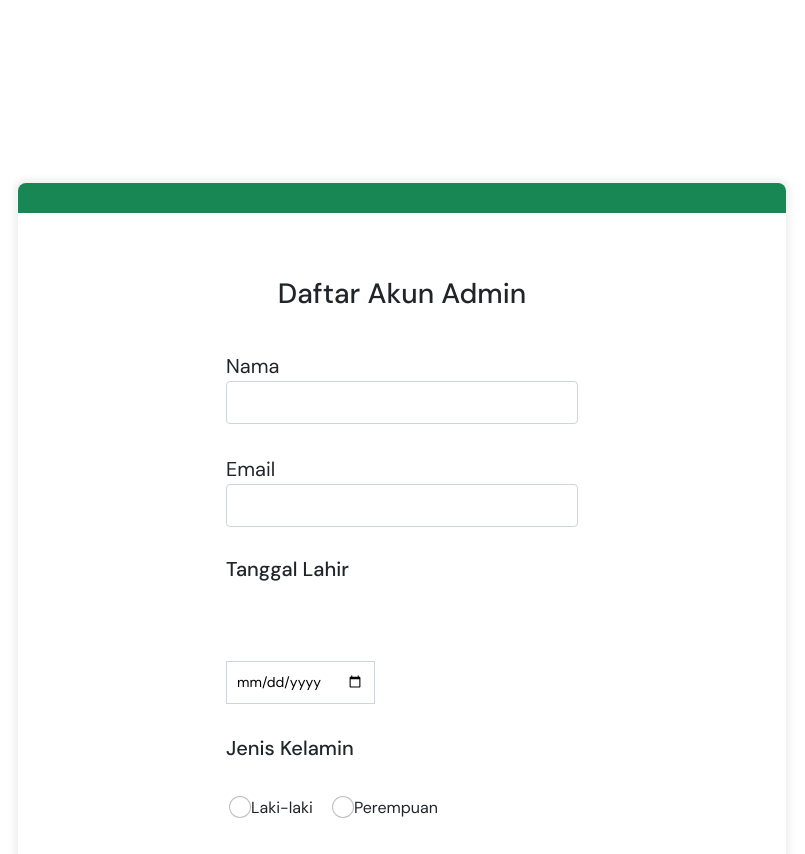
Scenario: Register Page
Check: the field with test id "email_input" is shown, box [226, 484, 578, 527]
Check: the date field with test id "birthday_input" is shown, box [226, 661, 375, 704]
Cek salah format nama
Step 1. Type "1213asjasha" into the field with test id "name_input" → (402, 402), box [226, 381, 578, 424]
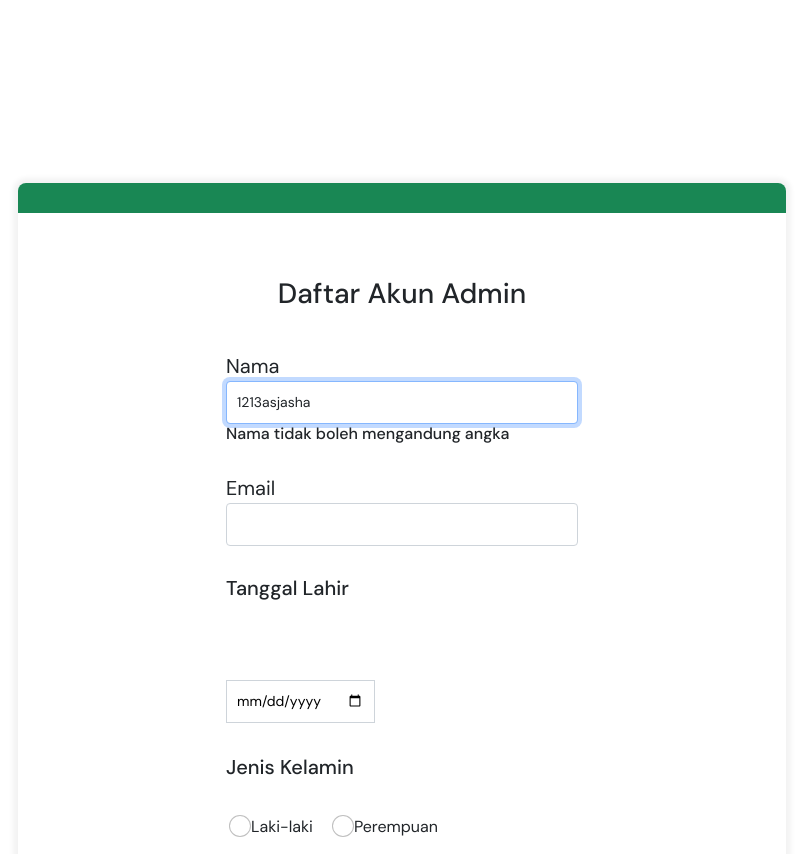
Check: the heading with test id "name_validation" reads "Nama tidak boleh mengandung angka", box [226, 423, 510, 444]
Cek salah format email
Step 2. Type "1213asjasha" into the field with test id "email_input" → (402, 524), box [226, 503, 578, 546]
(page scrolled)
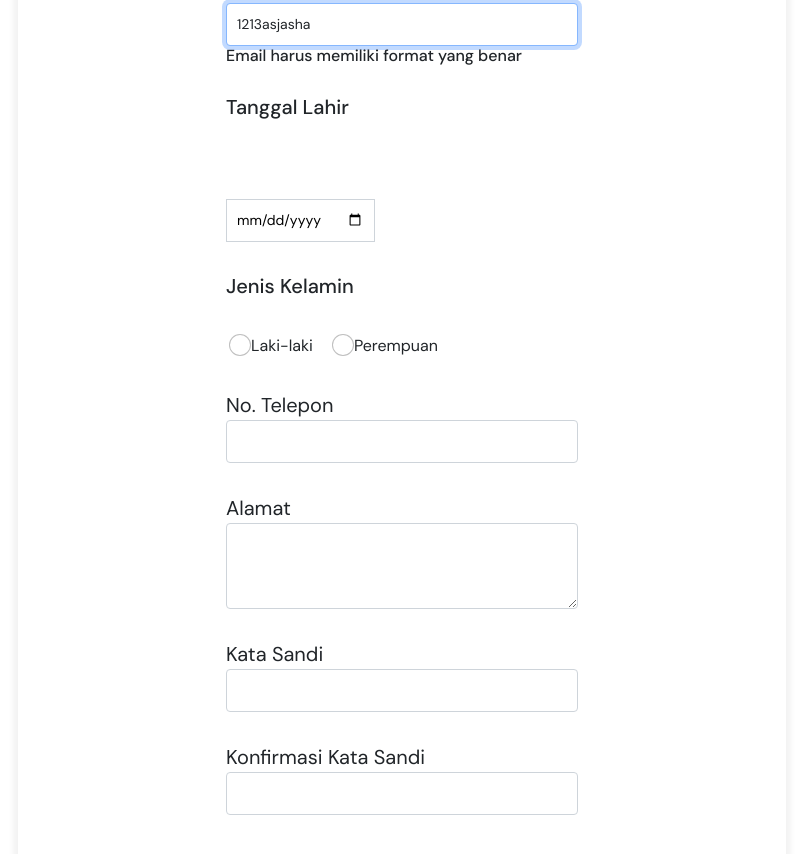
Check: the heading with test id "email_validation" reads "Email harus memiliki format yang benar", box [226, 45, 522, 66]
Cek salah format telepon
Step 3. Type "adasdaeadda" into the field with test id "telp_input" → (402, 442), box [226, 420, 578, 463]
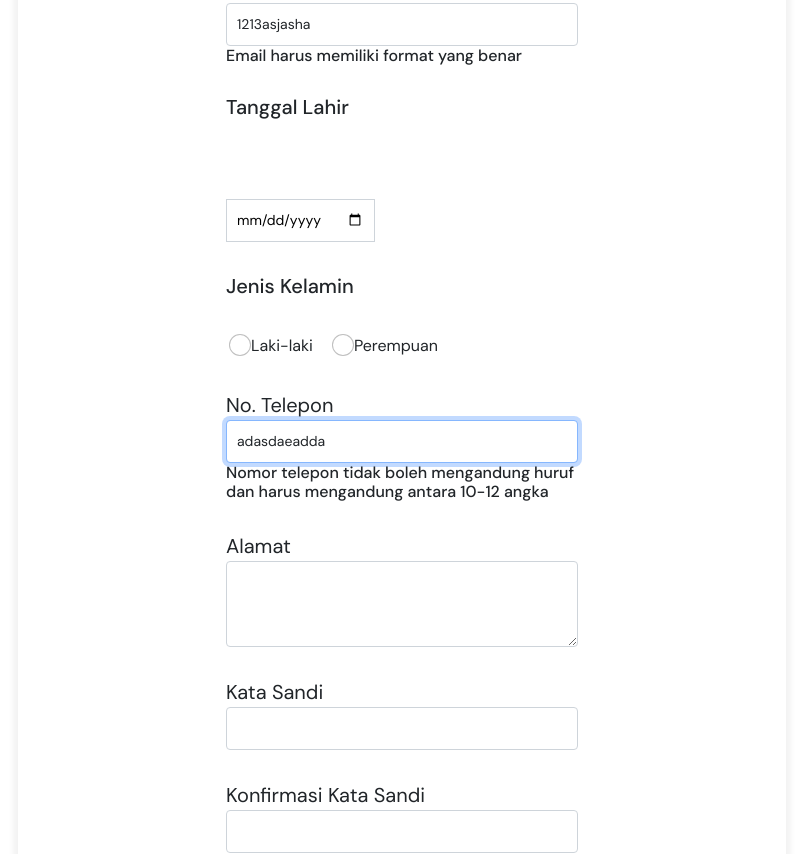
Check: the heading with test id "telp_validation" shows "Nomor telepon tidak boleh mengandung huruf dan harus mengandung antara 10-12 angka", box [226, 462, 574, 502]
